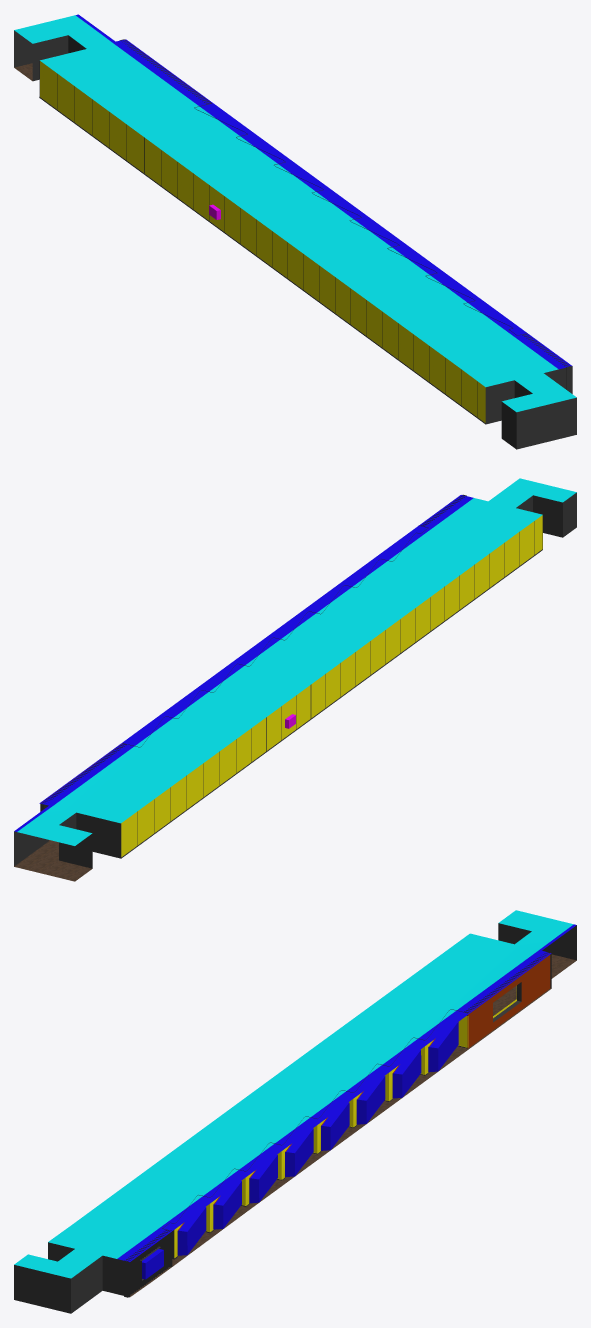
The model's file is SalaMejorClubMundo.fbx.
The picture shows the model from 3 angles, top to bottom: view 1: azimuth 30°, elevation 25°; view 2: azimuth 150°, elevation 25°; view 3: azimuth 330°, elevation 25°; orthographic projection. The views are drawn at different scales.
Visible parts, largest first — view 1: SalaMejorClubMundo; view 2: SalaMejorClubMundo; view 3: SalaMejorClubMundo.
Part boxes in pixels (x1=…): SalaMejorClubMundo: x1=14, y1=14, x2=576, y2=449; SalaMejorClubMundo: x1=14, y1=478, x2=576, y2=881; SalaMejorClubMundo: x1=14, y1=910, x2=576, y2=1313.
Size of the model in its own units: 928 by 360 by 8837.
